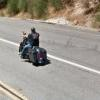Motorcycle: (14, 26, 51, 69)
